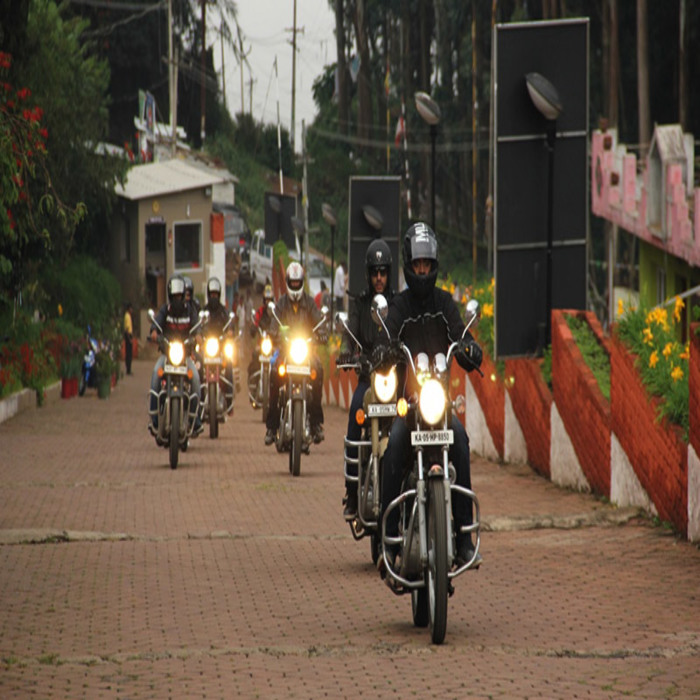h: (402, 220, 441, 299), (364, 239, 394, 300), (284, 259, 307, 305), (166, 275, 187, 313), (204, 276, 222, 311)
n: (410, 428, 456, 447), (366, 402, 400, 417)
